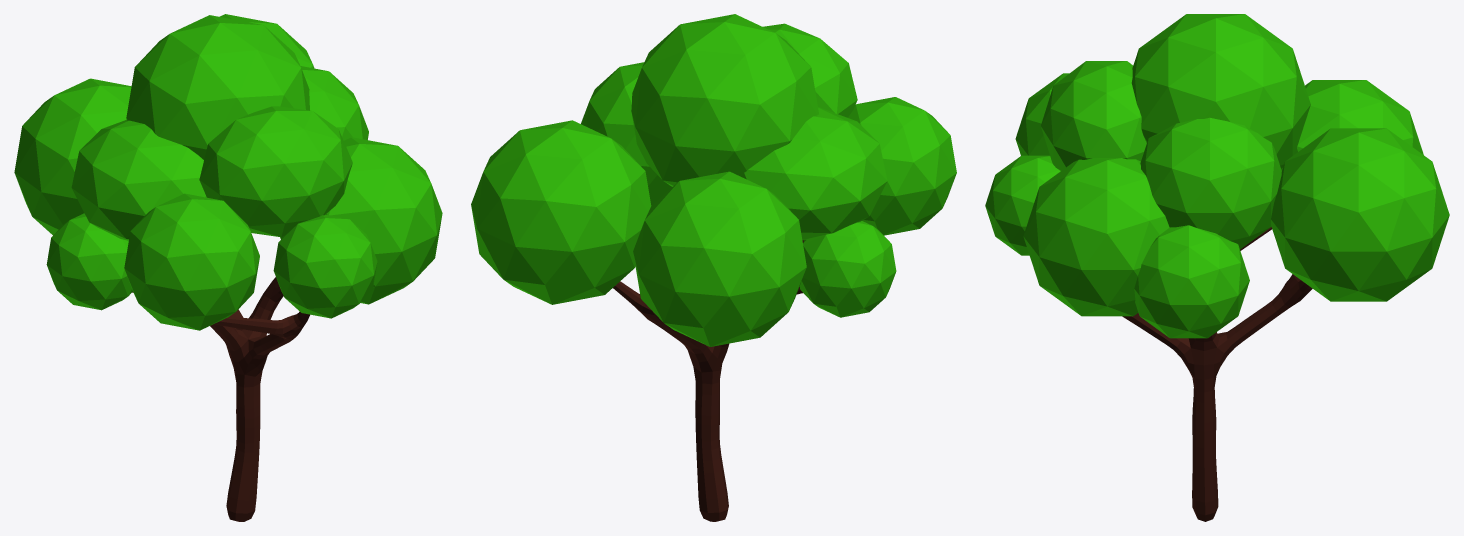
Rendered from Green Tree.fbx.
3 renders of one model, left to right at view 1: azimuth 30°, elevation 25°; view 2: azimuth 150°, elevation 25°; view 3: azimuth 270°, elevation 25°, orthographic. The views are drawn at different scales.
Parts seen in each view (by area): view 1: Leaf, Stem; view 2: Leaf, Stem; view 3: Leaf, Stem.
Part boxes in pixels (bbox=[...]): Leaf: bbox=[14, 14, 442, 330]; Stem: bbox=[132, 277, 309, 521]; Leaf: bbox=[471, 14, 956, 346]; Stem: bbox=[613, 240, 803, 521]; Leaf: bbox=[985, 14, 1449, 338]; Stem: bbox=[1122, 227, 1312, 521].
Bounding box in the file's own units: 796 × 1103 × 939.
